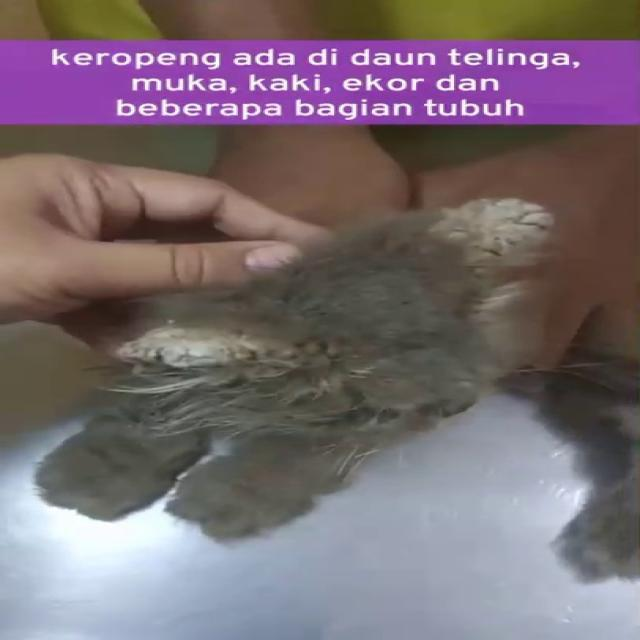ghe: (152, 310, 302, 396)
